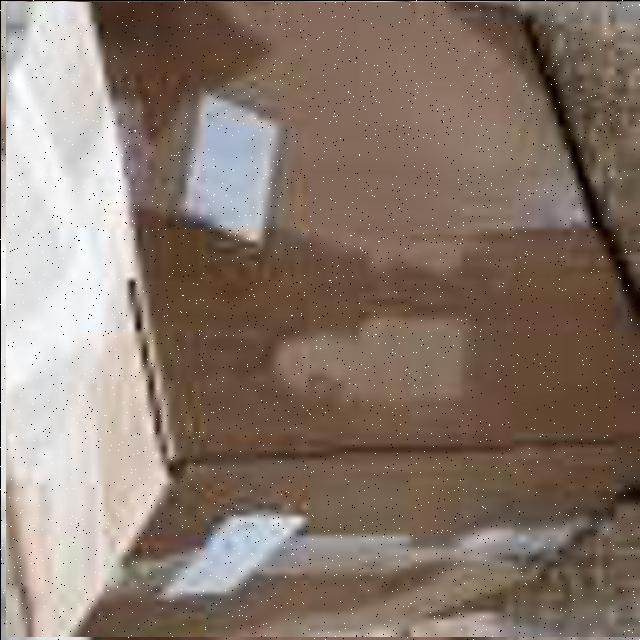defect: (5, 1, 640, 636)
